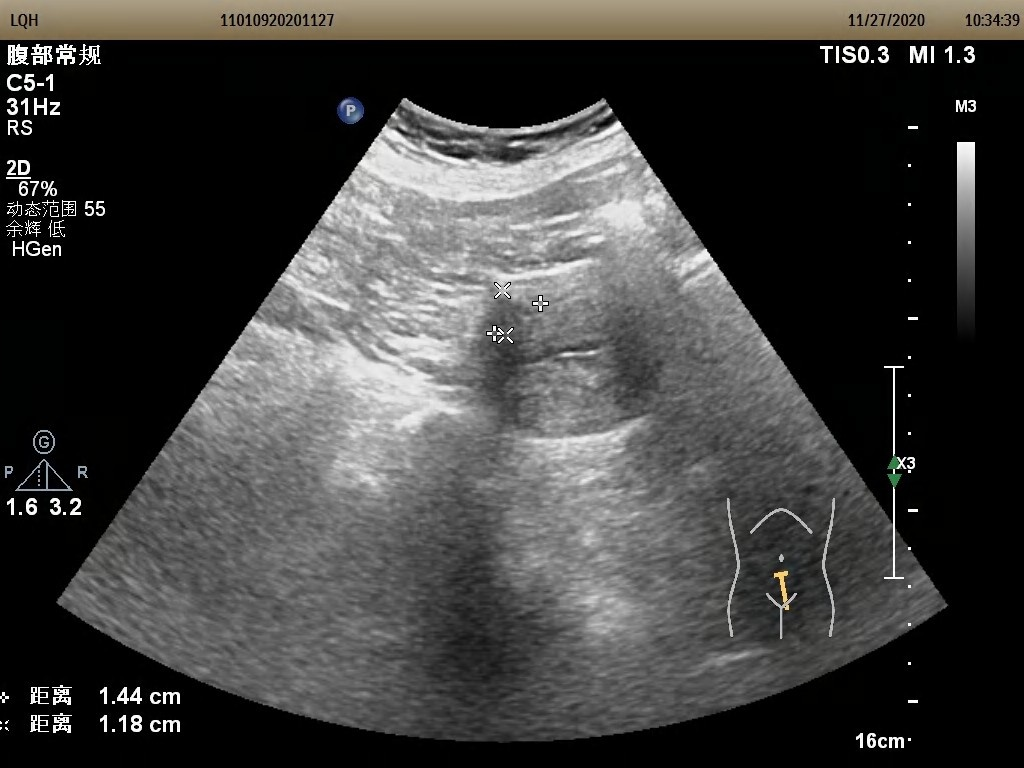肌瘤: (487, 296, 525, 338)
